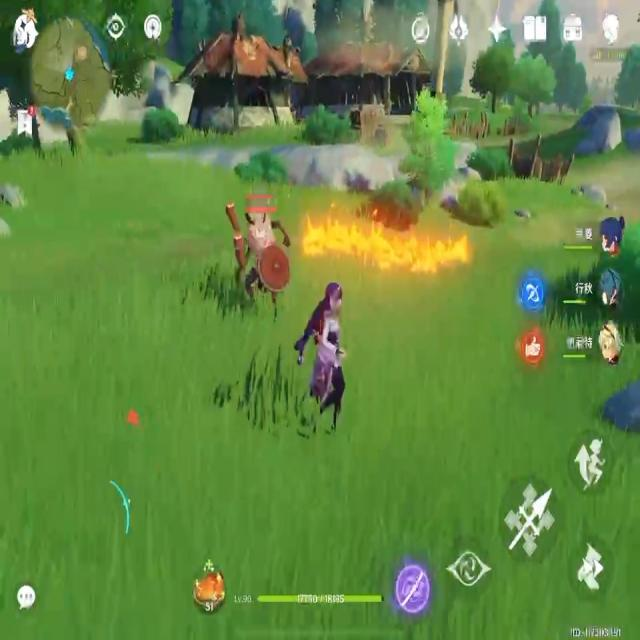genshin-hilichurls: (226, 197, 296, 313)
